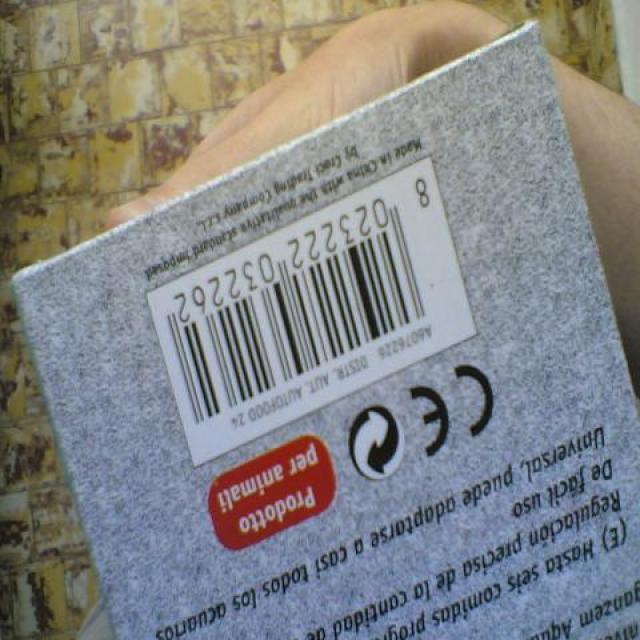Barcode: (146, 156, 478, 469)
